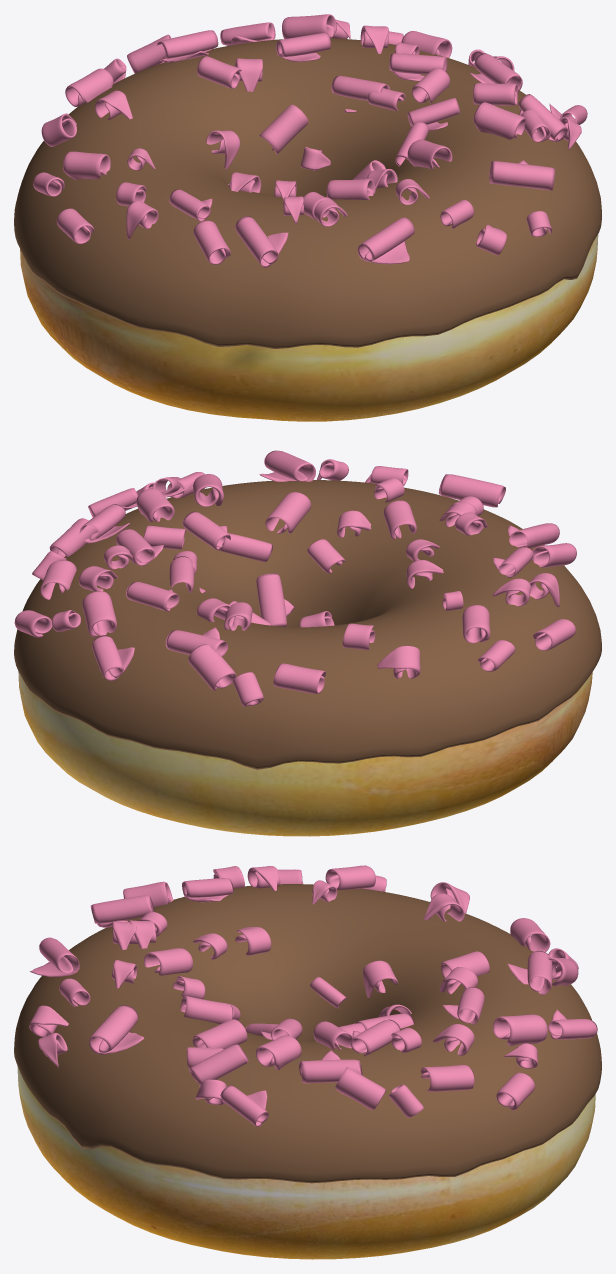
Rendered from coffee strawberry curls.glb.
3 views of the same model, one above another, from view 1: azimuth 30°, elevation 25°; view 2: azimuth 150°, elevation 25°; view 3: azimuth 270°, elevation 25° (orthographic). The views are drawn at different scales.
Visible parts, largest first — view 1: chocolate.001, Spiral.005, Torus; view 2: chocolate.001, Spiral.005, Torus; view 3: chocolate.001, Spiral.005, Torus.
Part boxes in pixels (x1,y1,x2,y2): chocolate.001: (14,38,601,348); Spiral.005: (33,14,587,267); Torus: (20,234,598,421); chocolate.001: (14,480,601,769); Spiral.005: (14,450,576,706); Torus: (18,671,592,836); chocolate.001: (14,884,601,1183); Spiral.005: (29,865,597,1127); Torus: (17,1066,595,1259).
Bounding box in the file's own units: 0.1995 × 0.0804 × 0.1978.
3 materials, 1 textured.
